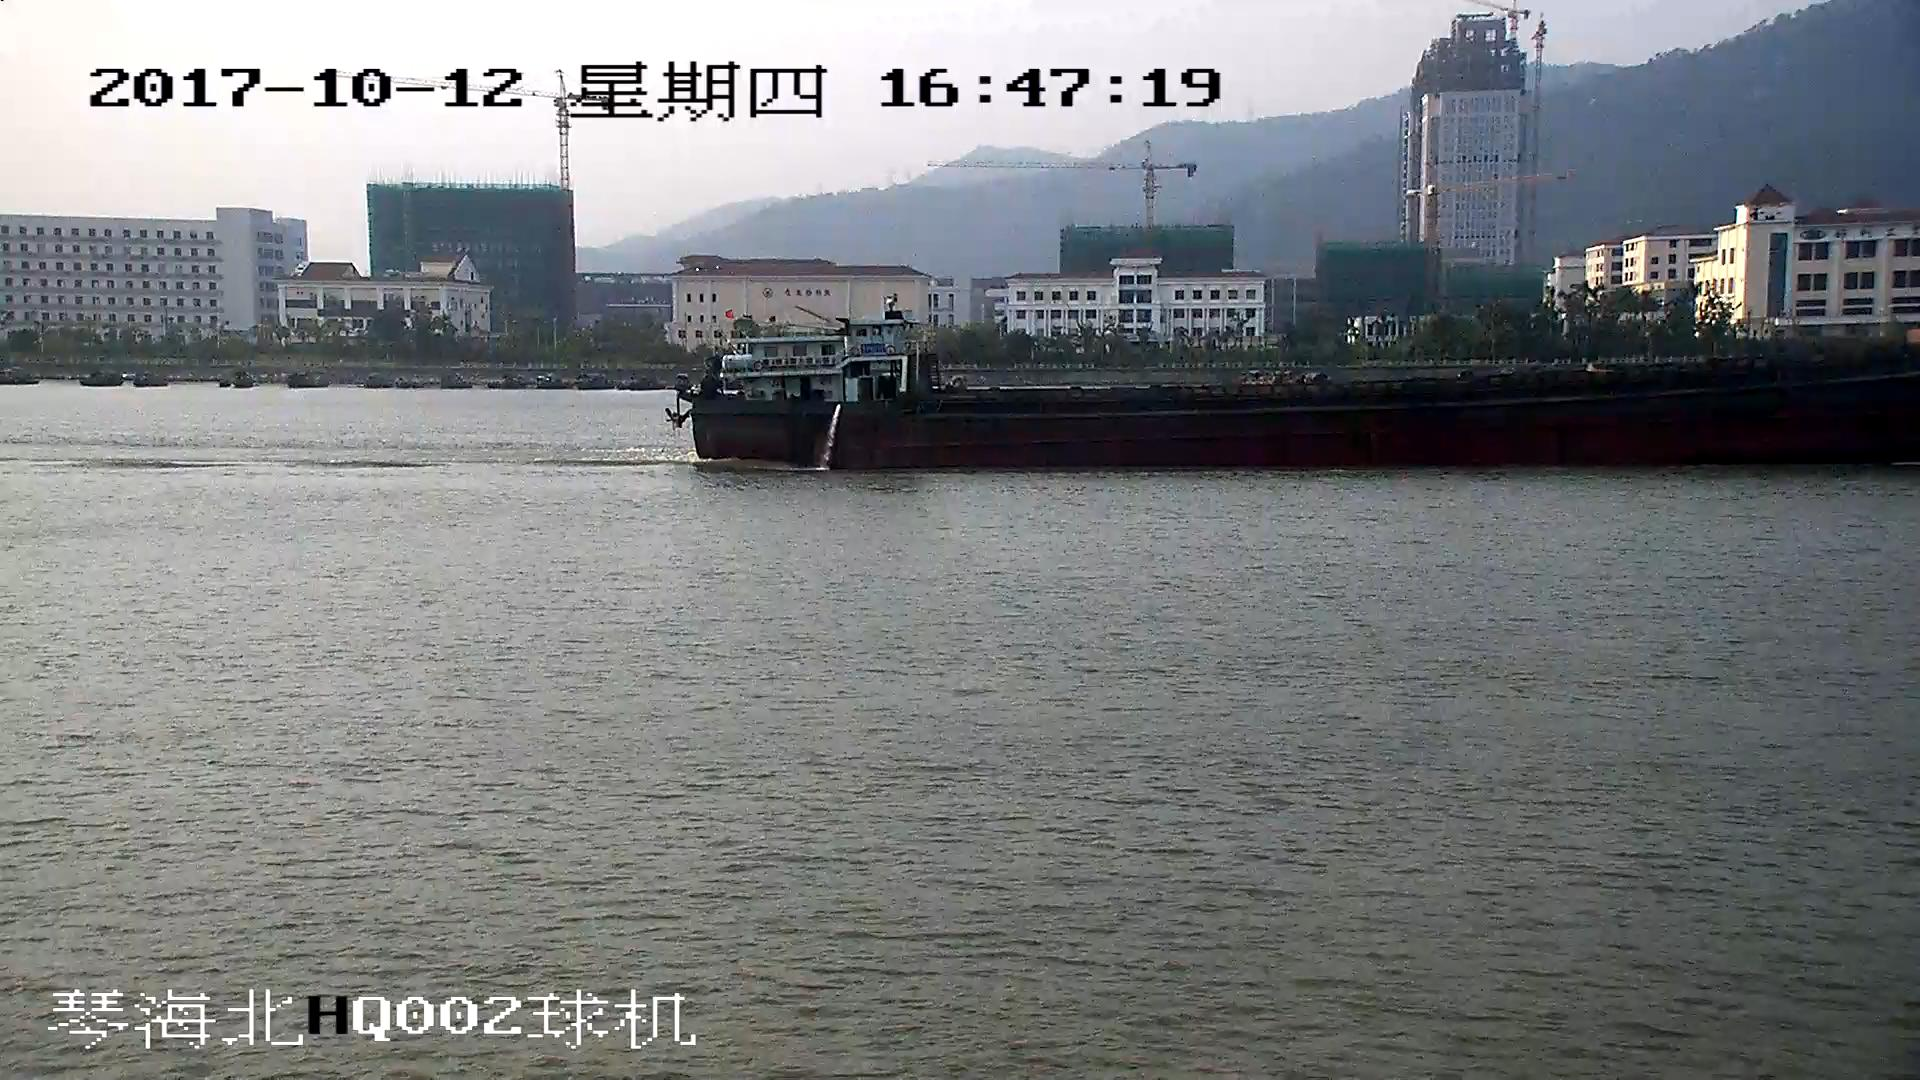bulk cargo carrier: (677, 313, 1920, 462)
